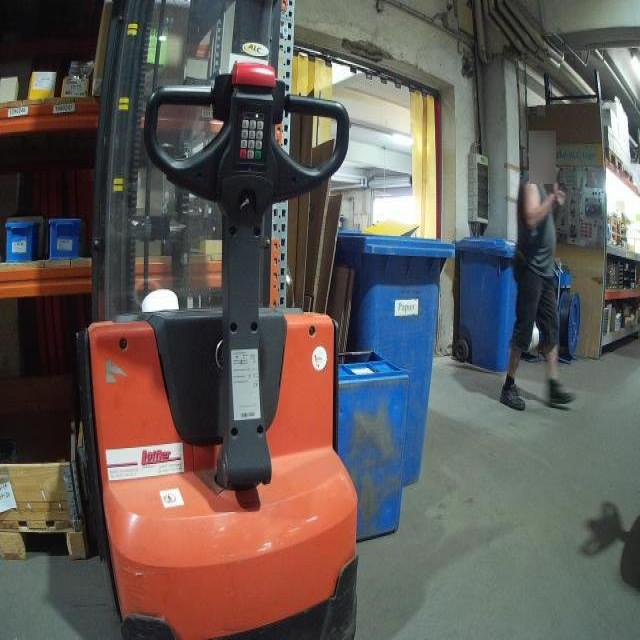pallet: (2, 513, 94, 570), (599, 148, 625, 185), (626, 168, 634, 195)
pallet_truck: (83, 1, 359, 638)
